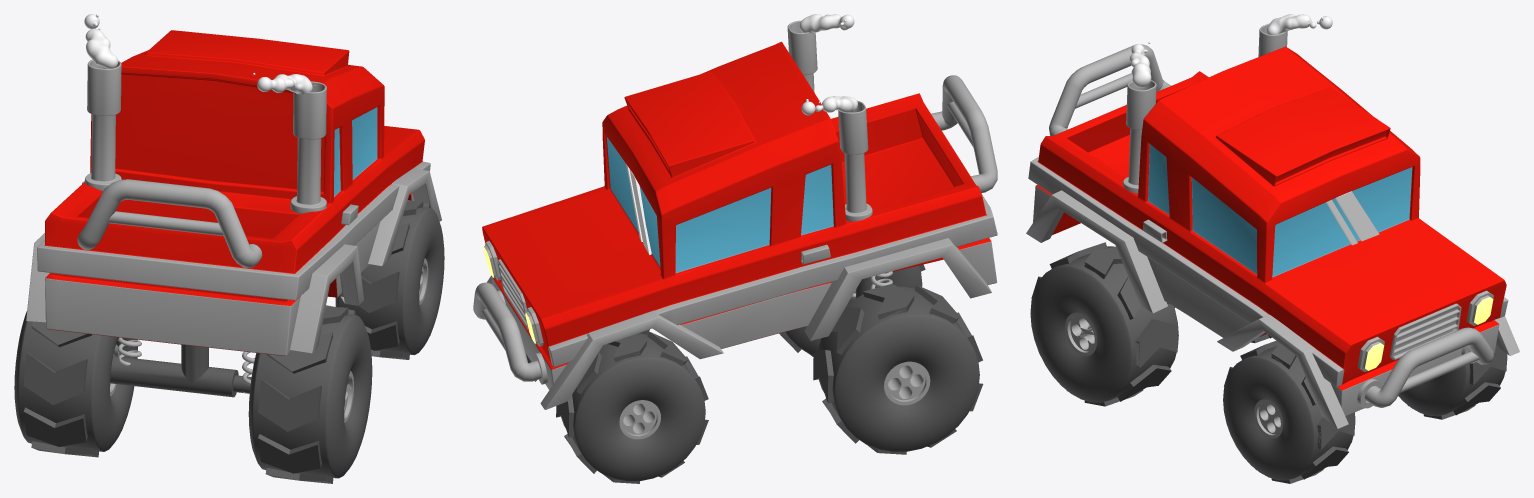
Rendered from cartoony_car.glb.
The picture shows the model from 3 angles, left to right: view 1: azimuth 30°, elevation 25°; view 2: azimuth 150°, elevation 25°; view 3: azimuth 270°, elevation 25°; orthographic projection. The views are drawn at different scales.
Visible parts, largest first — view 1: Cube_13, Tire_21, Cube.001_1, Cube.008_8, Cube.007_7, Tee Joint.001_20, Mball.055_23, Cube.002_2; view 2: Cube_13, Tire_21, Cube.001_1, Cube.008_8, Cube.007_7, Cube.005_5, Mball.055_23, Cube.010_10, Cube.003_3, Cube.013_11; view 3: Cube_13, Tire_21, Cube.001_1, Cube.005_5, Cube.007_7, Cube.008_8, Cube.003_3, Mball.055_23, Cube.010_10, Cube.013_11, Cube.006_6, Cube.002_2.
Boxes of the visible parts, x1=… form: Cube_13: x1=37, y1=30, x2=430, y2=355; Tire_21: x1=14, y1=200, x2=444, y2=483; Cube.001_1: x1=26, y1=168, x2=441, y2=353; Cube.008_8: x1=85, y1=59, x2=326, y2=213; Cube.007_7: x1=77, y1=179, x2=262, y2=267; Tee Joint.001_20: x1=110, y1=344, x2=251, y2=397; Mball.055_23: x1=84, y1=14, x2=315, y2=94; Cube.002_2: x1=108, y1=211, x2=223, y2=235; Cube_13: x1=482, y1=41, x2=997, y2=389; Tire_21: x1=525, y1=264, x2=983, y2=483; Cube.001_1: x1=487, y1=238, x2=991, y2=409; Cube.008_8: x1=787, y1=20, x2=872, y2=221; Cube.007_7: x1=931, y1=75, x2=997, y2=193; Cube.005_5: x1=473, y1=282, x2=541, y2=381; Mball.055_23: x1=798, y1=14, x2=857, y2=115; Cube.010_10: x1=483, y1=241, x2=543, y2=346; Cube.003_3: x1=497, y1=259, x2=528, y2=329; Cube.013_11: x1=626, y1=164, x2=651, y2=254; Cube_13: x1=1028, y1=46, x2=1508, y2=416; Tire_21: x1=1030, y1=242, x2=1507, y2=483; Cube.001_1: x1=1026, y1=190, x2=1519, y2=428; Cube.005_5: x1=1364, y1=327, x2=1493, y2=407; Cube.007_7: x1=1049, y1=44, x2=1171, y2=135; Cube.008_8: x1=1123, y1=23, x2=1287, y2=193; Cube.003_3: x1=1389, y1=303, x2=1461, y2=360; Mball.055_23: x1=1130, y1=14, x2=1332, y2=87; Cube.010_10: x1=1357, y1=290, x2=1493, y2=372; Cube.013_11: x1=1326, y1=191, x2=1379, y2=245; Cube.006_6: x1=1400, y1=351, x2=1479, y2=392; Cube.002_2: x1=1075, y1=73, x2=1132, y2=108.
Size of the model in its own units: 7.62 by 5.79 by 7.62.
